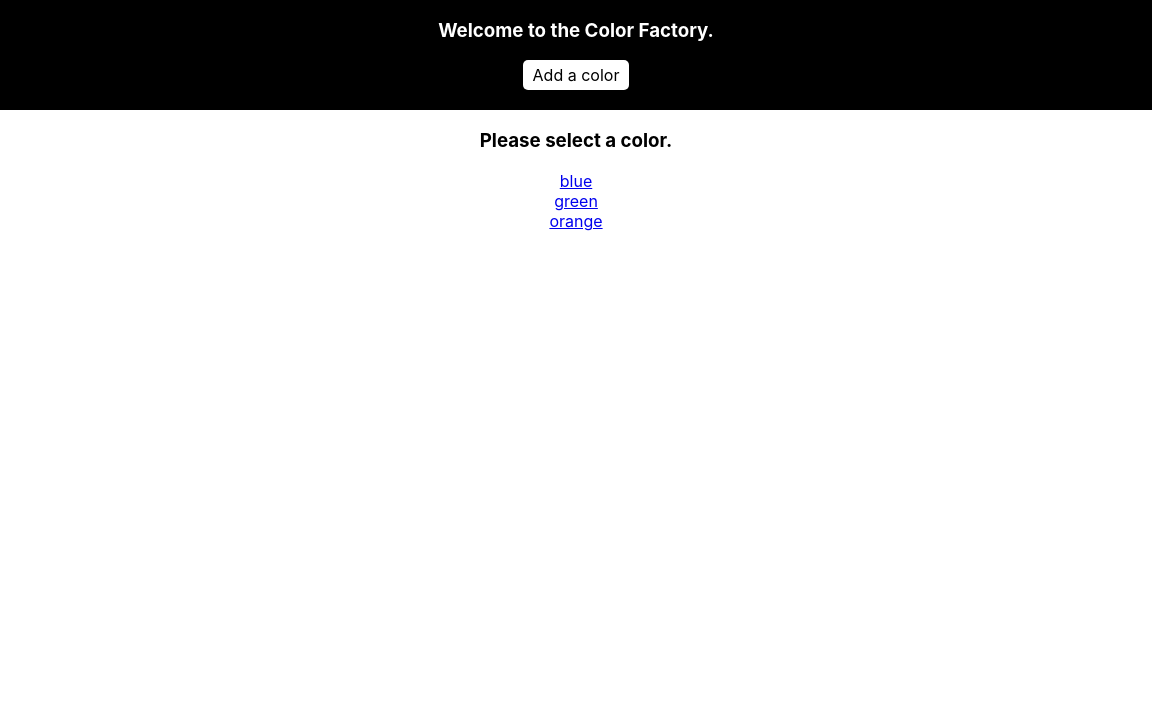
Test: if blue link works
What coordinates should you click on to do the following:
click the link "blue"
I would click on:
 (576, 181)
Its box is [560,171,592,191].
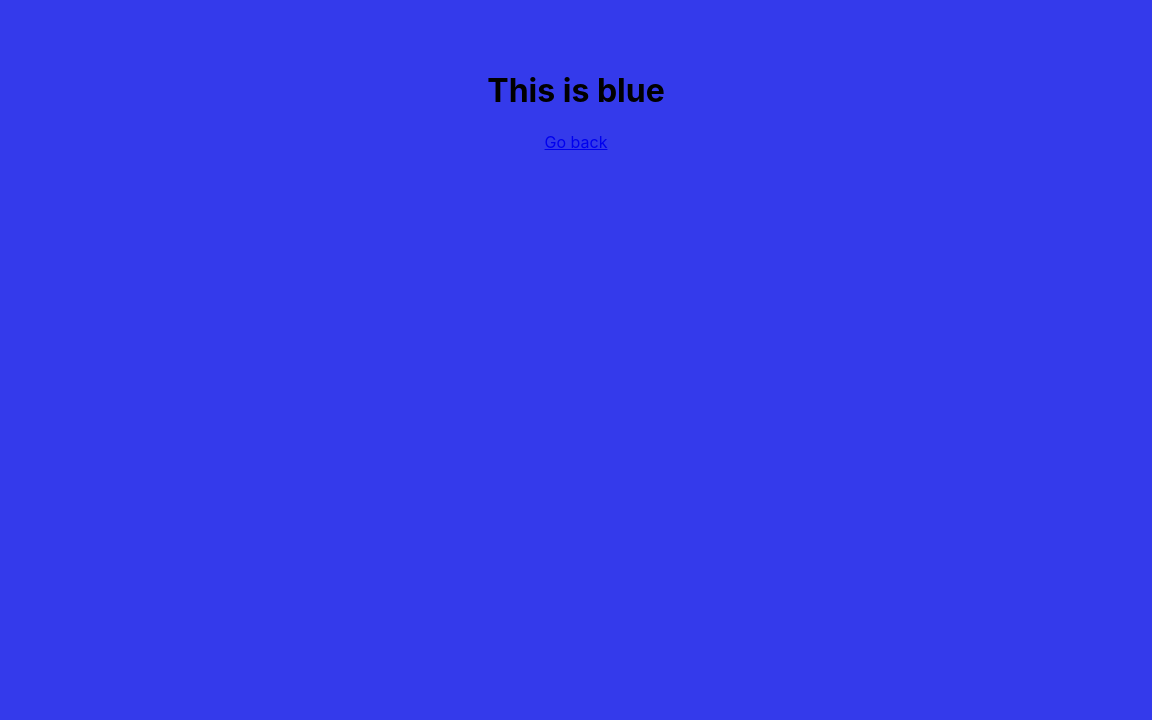
Now the heading "Welcome to the Color Factory." is gone
Now the heading "Please select a color." is gone
Now the heading "This is blue" is shown, box [487,71,665,110]
